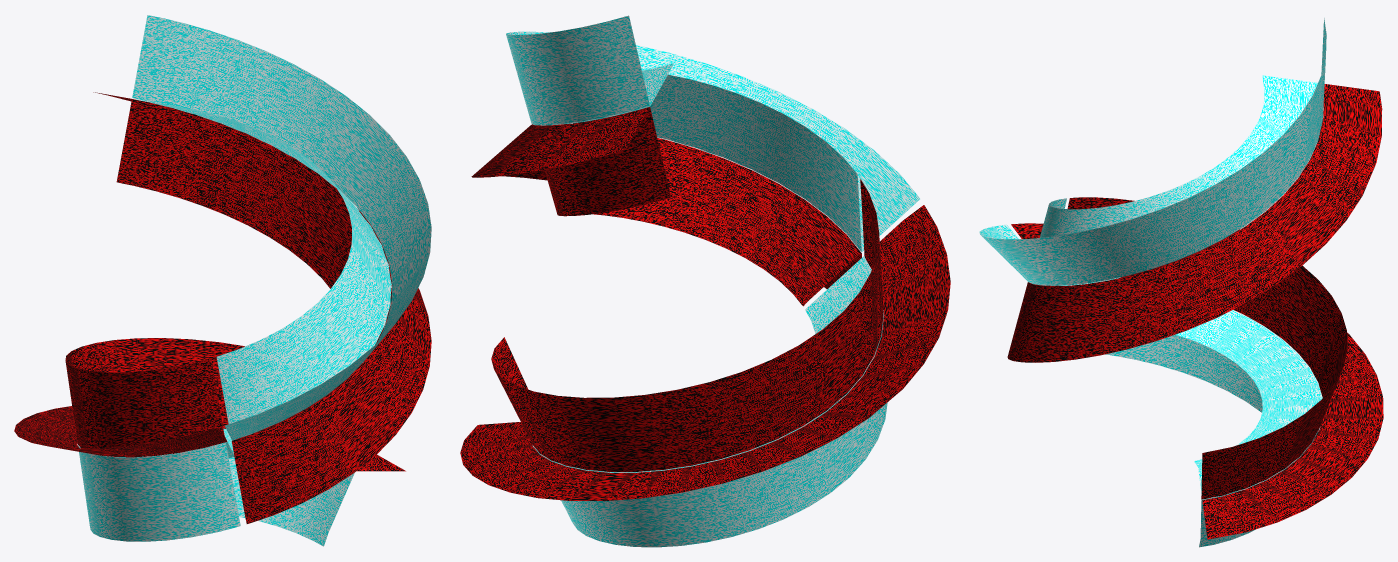
File: SM_Helix_05_HJS.fbx
The picture shows the model from 3 angles, left to right: view 1: azimuth 30°, elevation 25°; view 2: azimuth 150°, elevation 25°; view 3: azimuth 270°, elevation 25°; orthographic projection. The views are drawn at different scales.
Parts seen in each view (by area): view 1: SM_Helix_05_HJS; view 2: SM_Helix_05_HJS; view 3: SM_Helix_05_HJS.
Part boxes in pixels (<box>): SM_Helix_05_HJS: <box>14,15,431,546</box>; SM_Helix_05_HJS: <box>460,15,950,547</box>; SM_Helix_05_HJS: <box>979,18,1383,547</box>.
Size of the model in its own units: 499 by 644 by 490.
